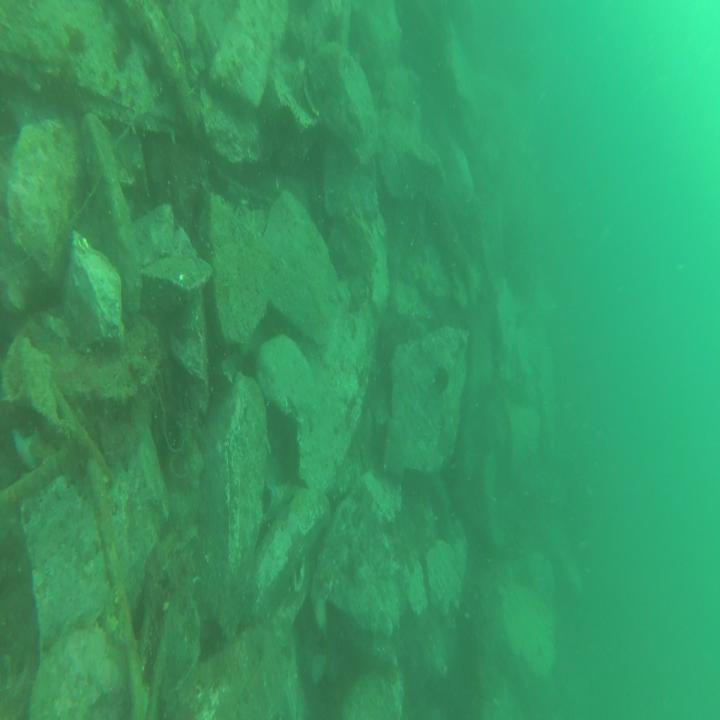echinus: (435, 363, 453, 395)
